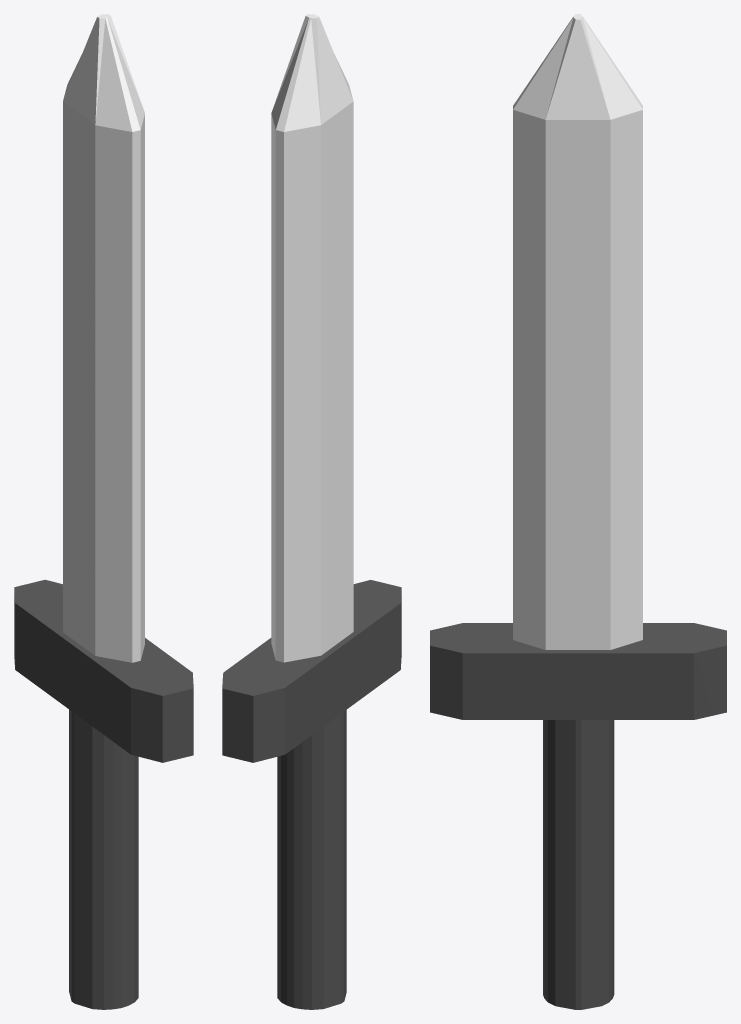
File: sword.obj
The picture shows the model from 3 angles, left to right: view 1: azimuth 30°, elevation 25°; view 2: azimuth 150°, elevation 25°; view 3: azimuth 270°, elevation 25°; orthographic projection.
Parts seen in each view (by area): view 1: 腕_右_円柱.003; view 2: 腕_右_円柱.003; view 3: 腕_右_円柱.003.
Boxes of the visible parts, box(x1,y1,x2,y2) form: 腕_右_円柱.003: box(14, 14, 193, 1009); 腕_右_円柱.003: box(222, 14, 401, 1009); 腕_右_円柱.003: box(430, 14, 726, 1009).
Bounding box in the file's own units: 0.2403 × 3.63 × 0.9993.
1 material, 1 textured.
